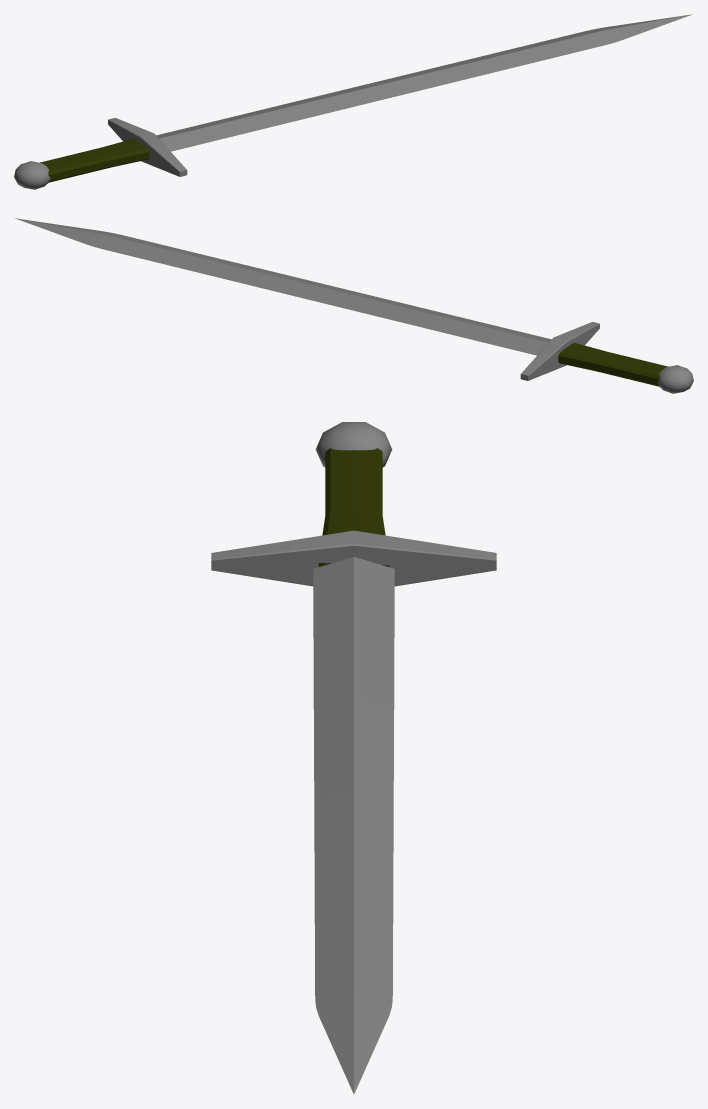
File: sword0.fbx
The picture shows the model from 3 angles, top to bottom: view 1: azimuth 30°, elevation 25°; view 2: azimuth 150°, elevation 25°; view 3: azimuth 270°, elevation 25°; orthographic projection. The views are drawn at different scales.
Visible parts, largest first — view 1: Cube; view 2: Cube; view 3: Cube.
Part boxes in pixels (x1,y1,x2,y2): Cube: (14, 14, 692, 189); Cube: (15, 218, 693, 393); Cube: (211, 422, 496, 1093).
Bounding box in the file's own units: 3.63 × 0.1268 × 0.6637.
